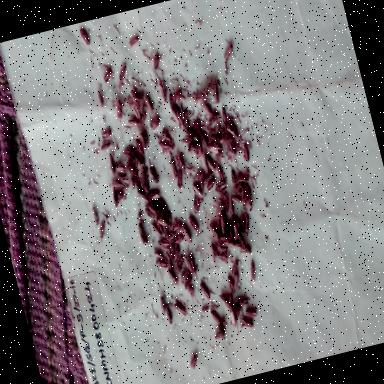pbw: (110, 92, 130, 126), (91, 213, 113, 243), (244, 254, 262, 288), (202, 238, 220, 271), (133, 215, 152, 246), (168, 292, 188, 321), (94, 132, 116, 157), (154, 76, 172, 106), (177, 219, 195, 249), (144, 111, 166, 135), (186, 211, 202, 242), (86, 198, 102, 229), (210, 319, 230, 343), (146, 158, 162, 188), (222, 255, 242, 278), (236, 312, 255, 336), (183, 348, 202, 372), (147, 47, 165, 72), (206, 80, 224, 105), (187, 192, 205, 216), (178, 134, 197, 156), (94, 122, 113, 144), (91, 84, 107, 110), (235, 164, 253, 186), (186, 251, 200, 279), (223, 270, 237, 298), (220, 190, 234, 218), (160, 304, 176, 328), (222, 134, 238, 158), (172, 170, 188, 194), (104, 153, 120, 177), (243, 304, 260, 326), (166, 156, 180, 182), (182, 251, 196, 277), (156, 139, 176, 157), (125, 30, 142, 51), (207, 306, 223, 328), (222, 291, 238, 313), (204, 154, 218, 178), (238, 140, 252, 164), (240, 213, 254, 237), (174, 152, 188, 176), (198, 280, 212, 304), (132, 136, 146, 160), (153, 293, 168, 315), (230, 304, 245, 326), (218, 105, 231, 130), (170, 84, 186, 104), (190, 181, 205, 202), (238, 184, 250, 210), (125, 114, 142, 132), (201, 80, 218, 98), (214, 250, 231, 267), (150, 206, 166, 224), (212, 146, 228, 164), (109, 186, 121, 210), (144, 95, 156, 119), (148, 187, 166, 203), (158, 198, 174, 216), (225, 168, 238, 190), (167, 268, 180, 290), (181, 275, 196, 294), (136, 168, 150, 188), (214, 162, 228, 182), (124, 156, 138, 176), (169, 105, 181, 128), (213, 180, 230, 196), (238, 244, 255, 260), (172, 255, 186, 274), (230, 270, 242, 292), (225, 194, 237, 216), (229, 221, 241, 243), (164, 251, 176, 273), (244, 191, 256, 213), (206, 110, 222, 126), (200, 170, 216, 186), (191, 88, 207, 104), (198, 300, 214, 316), (200, 101, 214, 119), (151, 246, 165, 264), (208, 222, 220, 243), (226, 122, 240, 140), (170, 244, 183, 263), (134, 160, 146, 180), (206, 142, 222, 157), (164, 210, 176, 230), (136, 96, 148, 116), (108, 174, 123, 190), (160, 128, 175, 144), (130, 102, 142, 122), (145, 202, 157, 222), (121, 143, 135, 160), (212, 201, 226, 218), (150, 222, 163, 240), (136, 188, 149, 206), (176, 106, 186, 129), (198, 130, 210, 149), (202, 178, 218, 192), (116, 171, 130, 187), (236, 294, 252, 308), (215, 237, 228, 254), (200, 152, 210, 174), (135, 148, 146, 168), (138, 131, 148, 153), (196, 171, 207, 191), (178, 268, 190, 286), (209, 130, 224, 144), (170, 219, 184, 234), (165, 230, 179, 245), (237, 231, 248, 250), (190, 118, 203, 134), (230, 191, 243, 207), (185, 127, 198, 143), (166, 243, 178, 260), (218, 216, 228, 236), (234, 216, 244, 236), (219, 290, 230, 308), (156, 237, 171, 250), (137, 111, 149, 127), (114, 158, 126, 174), (234, 180, 246, 196), (182, 109, 193, 126), (172, 233, 186, 246), (232, 238, 246, 251), (132, 174, 142, 192), (228, 310, 238, 328), (214, 213, 224, 231), (178, 105, 187, 125), (185, 283, 196, 299), (194, 140, 204, 157), (166, 92, 176, 109), (192, 168, 204, 182), (154, 216, 168, 228), (148, 200, 158, 216), (142, 128, 150, 148), (224, 237, 236, 250), (153, 257, 166, 269), (115, 188, 126, 202), (129, 174, 138, 190), (128, 90, 140, 102)
